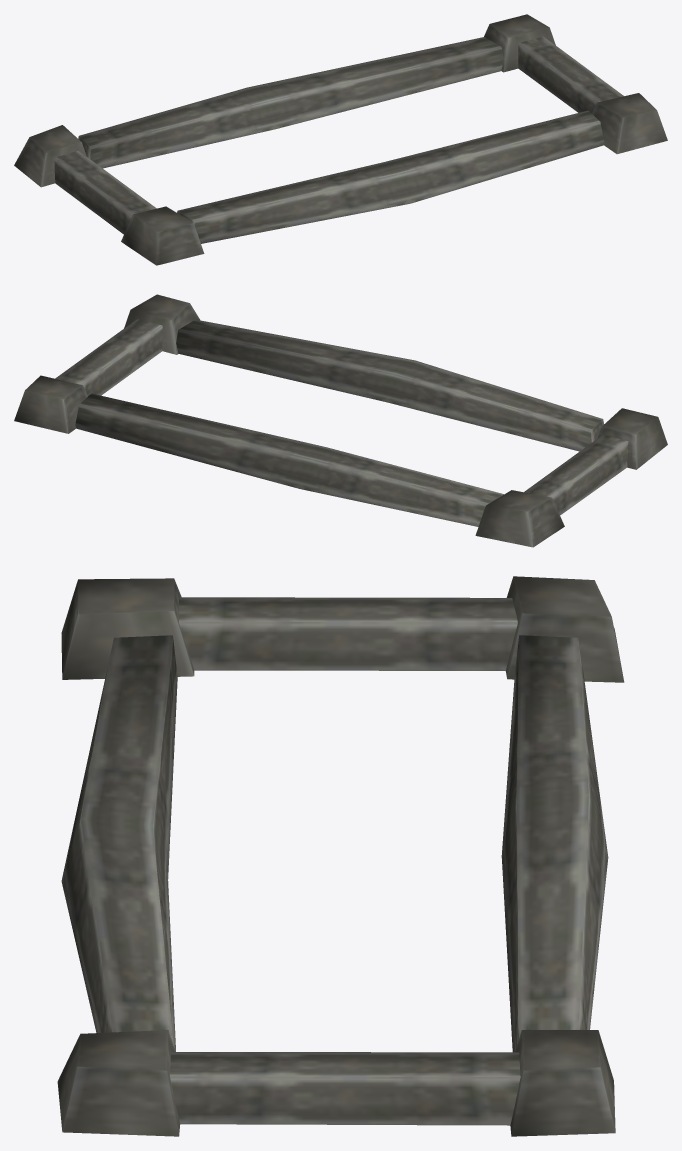
Rendered from duskwoodgraveframe.obj.
3 views of the same model, one above another, from view 1: azimuth 30°, elevation 25°; view 2: azimuth 150°, elevation 25°; view 3: azimuth 270°, elevation 25° (orthographic). The views are drawn at different scales.
Parts seen in each view (by area): view 1: duskwoodgraveframe; view 2: duskwoodgraveframe; view 3: duskwoodgraveframe.
Boxes of the visible parts, x1,y1,x2,y2 form: duskwoodgraveframe: [14, 14, 667, 265]; duskwoodgraveframe: [14, 294, 667, 547]; duskwoodgraveframe: [57, 576, 624, 1136].
Size of the model in its own units: 5.22 by 0.2818 by 2.45.
1 material, 1 textured.
